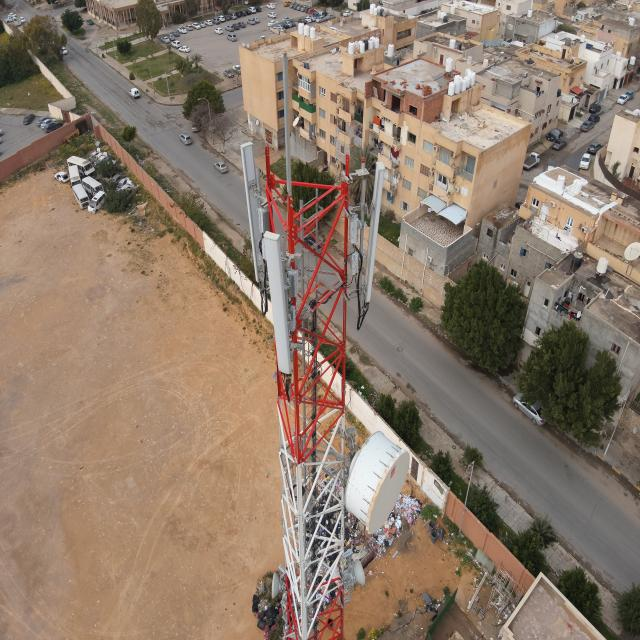Ground Based: (238, 38, 416, 640)
